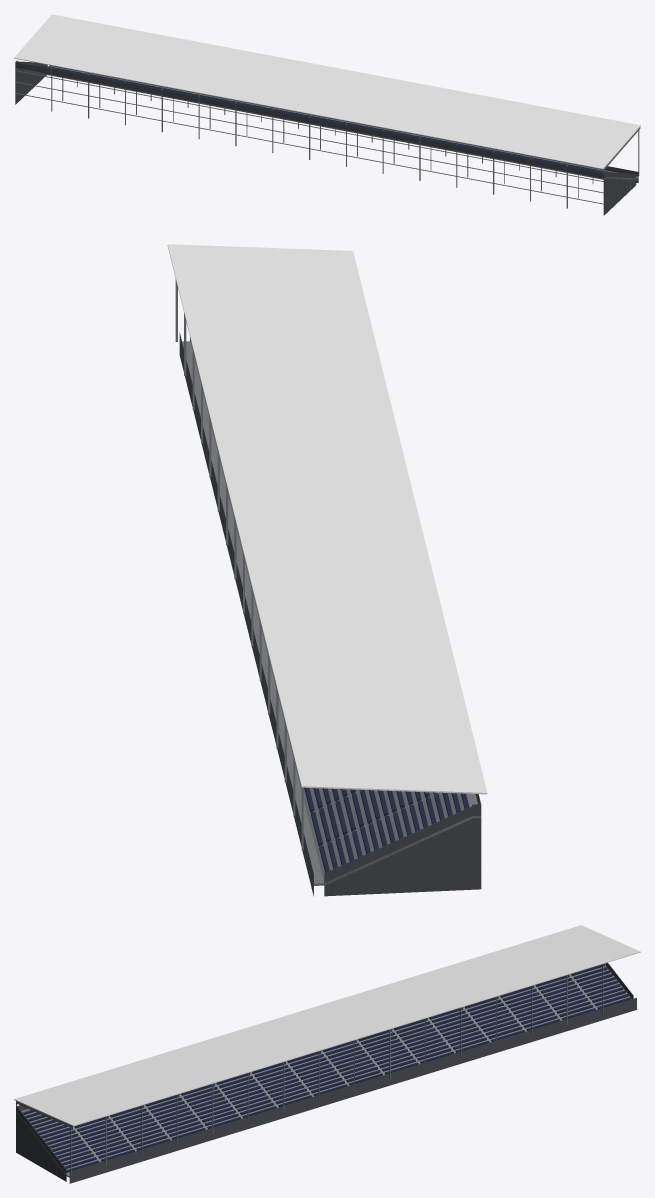
File: sil_stand_luffield_corner.glb
3 renders of one model, top to bottom at view 1: azimuth 30°, elevation 25°; view 2: azimuth 150°, elevation 25°; view 3: azimuth 270°, elevation 25°, orthographic. The views are drawn at different scales.
Visible parts, largest first — view 1: silverstone-luffield-corner; view 2: silverstone-luffield-corner; view 3: silverstone-luffield-corner.
Boxes of the visible parts, x1=… form: silverstone-luffield-corner: x1=14, y1=14, x2=640, y2=215; silverstone-luffield-corner: x1=167, y1=244, x2=487, y2=896; silverstone-luffield-corner: x1=14, y1=925, x2=640, y2=1183.
Bounding box in the file's own units: 88.11 × 11.88 × 112.
